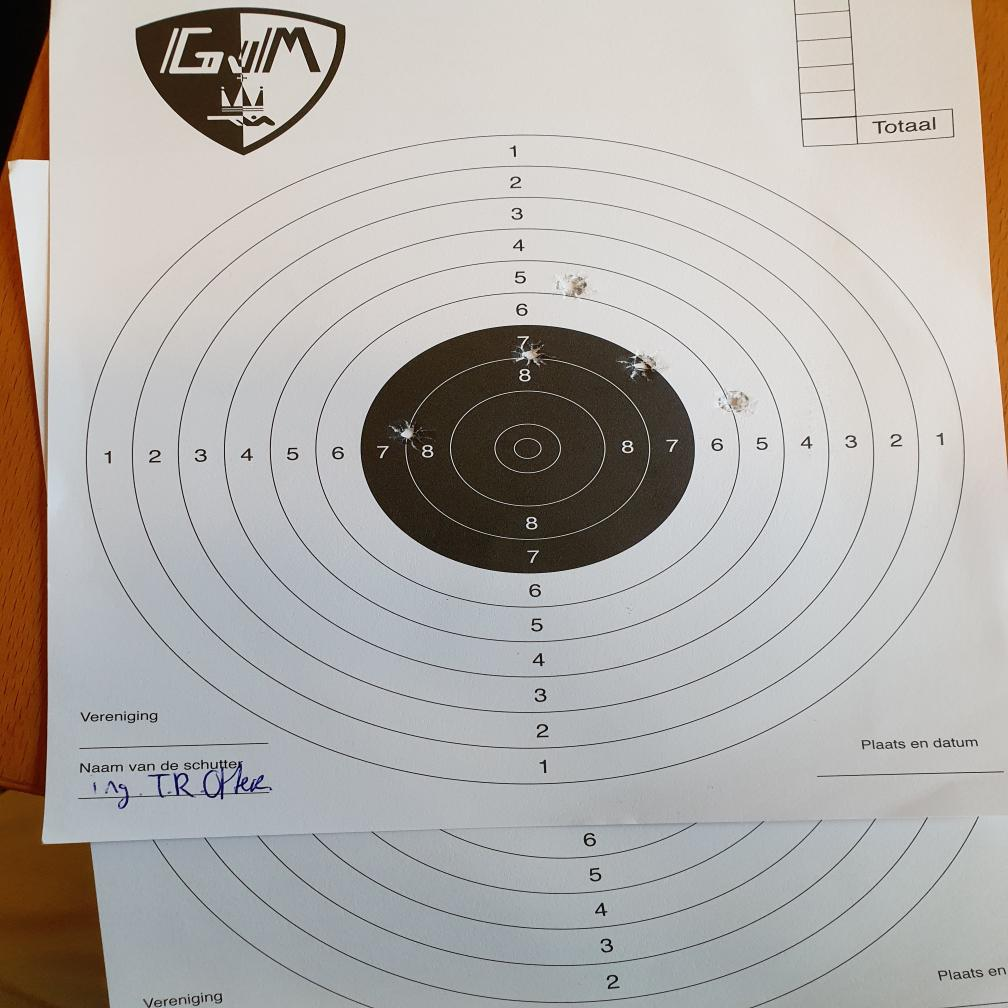6: (712, 387, 756, 426), (551, 274, 591, 304)
7: (616, 344, 667, 381)
8: (508, 334, 556, 368), (382, 415, 425, 449)
Target: (82, 137, 966, 786)
black_contour: (361, 325, 696, 573)
